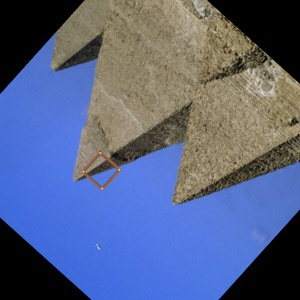square: (78, 150, 123, 192)
